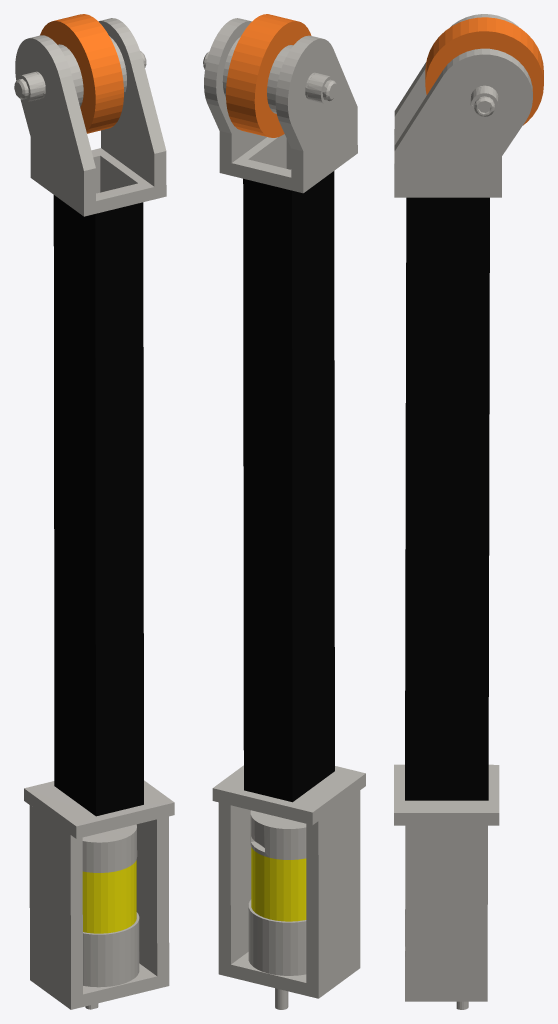
The model's file is codo.obj.
The picture shows the model from 3 angles, left to right: view 1: azimuth 30°, elevation 25°; view 2: azimuth 150°, elevation 25°; view 3: azimuth 270°, elevation 25°; orthographic projection.
Visible parts, largest first — view 1: Object.1; view 2: Object.1; view 3: Object.1.
Part boxes in pixels (x1,y1,x2,y2): Object.1: [14, 14, 174, 1009]; Object.1: [203, 14, 365, 1009]; Object.1: [394, 14, 543, 1009].
Size of the model in its own units: 65.65 by 494 by 68.27.
